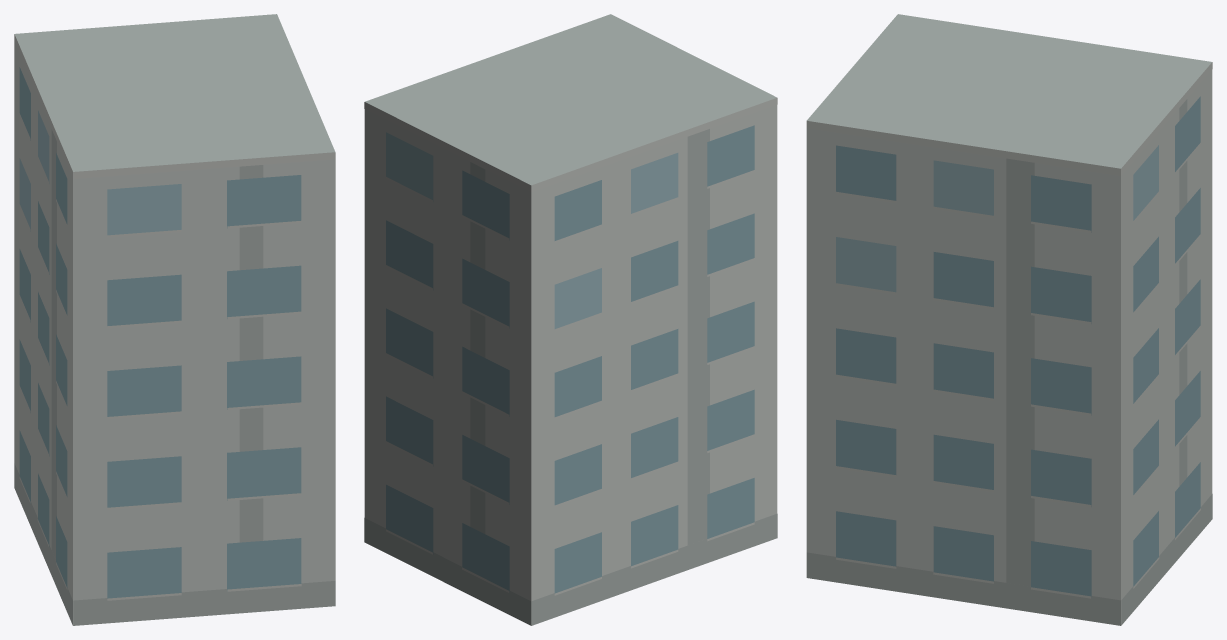
Rendered from residential-d2e67f32-1ce9-44a9-8ea2-c0879e4669ca.glb.
3 renders of one model, left to right at view 1: azimuth 30°, elevation 25°; view 2: azimuth 150°, elevation 25°; view 3: azimuth 270°, elevation 25°, orthographic. The views are drawn at different scales.
Parts seen in each view (by area): view 1: residential-d2e67f32-1ce9-44a9-8ea2-c0879e4669ca.tmp; view 2: residential-d2e67f32-1ce9-44a9-8ea2-c0879e4669ca.tmp; view 3: residential-d2e67f32-1ce9-44a9-8ea2-c0879e4669ca.tmp.
Boxes of the visible parts, bbox=[...] form: residential-d2e67f32-1ce9-44a9-8ea2-c0879e4669ca.tmp: bbox=[14, 14, 335, 625]; residential-d2e67f32-1ce9-44a9-8ea2-c0879e4669ca.tmp: bbox=[364, 14, 777, 625]; residential-d2e67f32-1ce9-44a9-8ea2-c0879e4669ca.tmp: bbox=[806, 14, 1212, 625].
Bounding box in the file's own units: 11.08 × 15.25 × 12.28.
